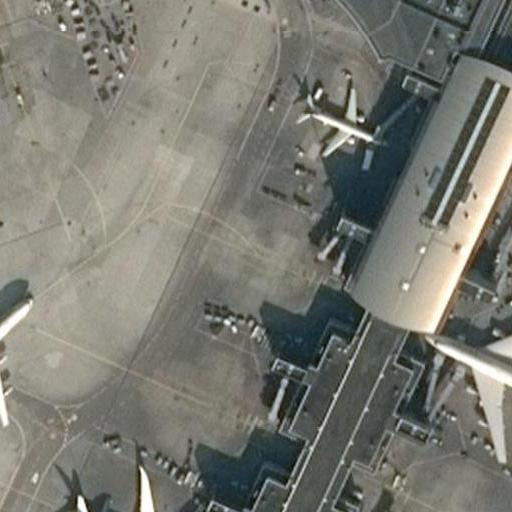Aircraft: (414, 300, 512, 459), (51, 449, 205, 512), (290, 71, 385, 159), (0, 284, 32, 437), (502, 171, 512, 274)
